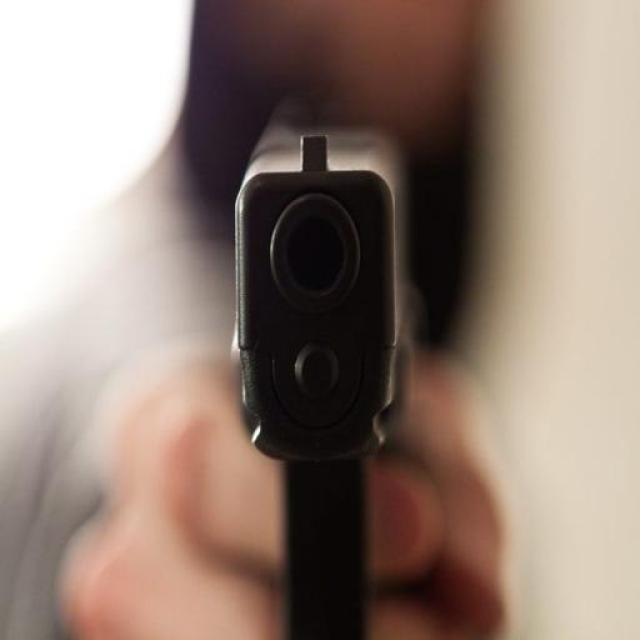pistol: (227, 90, 416, 639)
